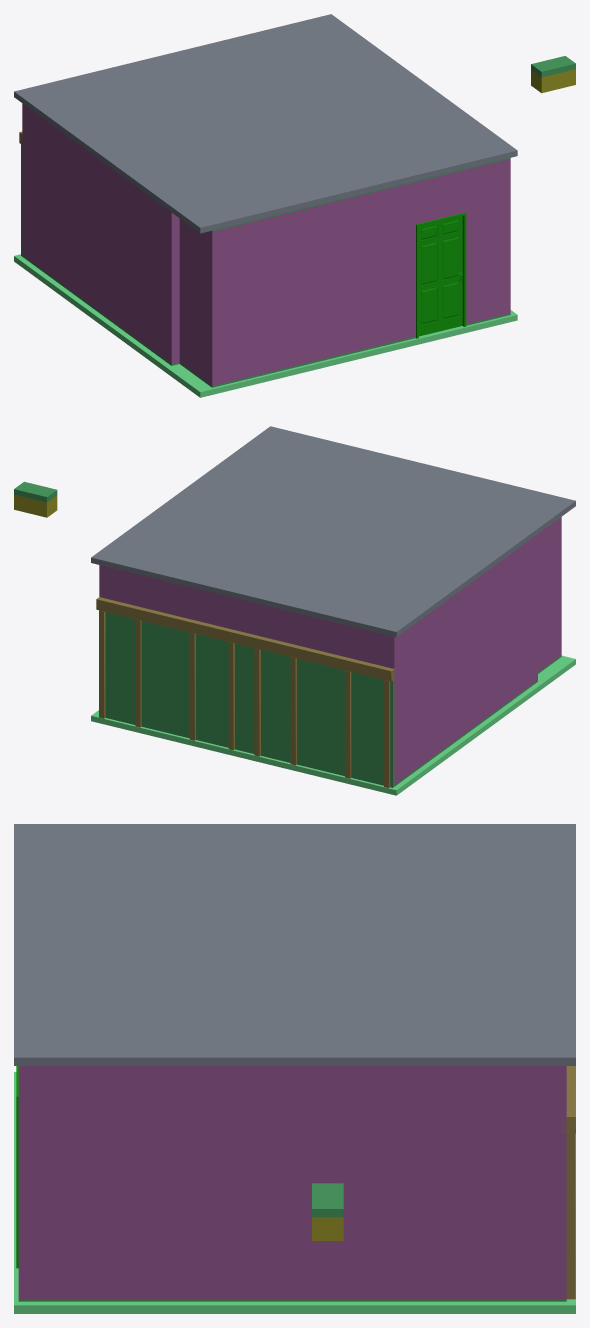
File: FloorPlan10_physics.fbx
3 renders of one model, top to bottom at view 1: azimuth 30°, elevation 25°; view 2: azimuth 150°, elevation 25°; view 3: azimuth 270°, elevation 25°, orthographic. The views are drawn at different scales.
Parts seen in each view (by area): view 1: StandardWallSize, Ceiling, Floor, StandardDoor1, StandardUpperCabinetWindow, StandardDoorFrame1; view 2: Ceiling, StandardWallSize, WindowGlass, WindowStructure, Floor, StandardUpperCabinetWindow; view 3: Ceiling, StandardWallSize, Floor, WindowStructure, StandardUpperCabinetWindow.
Part boxes in pixels (x1,y1,x2,y2): StandardWallSize: [22, 103, 510, 387]; Ceiling: [14, 14, 517, 233]; Floor: [14, 254, 517, 397]; StandardDoor1: [419, 216, 462, 336]; StandardUpperCabinetWindow: [531, 56, 575, 93]; StandardDoorFrame1: [416, 212, 466, 338]; Ceiling: [91, 426, 575, 637]; StandardWallSize: [99, 517, 561, 786]; WindowGlass: [105, 612, 394, 787]; WindowStructure: [96, 597, 394, 787]; Floor: [91, 655, 575, 795]; StandardUpperCabinetWindow: [14, 481, 57, 517]; Ceiling: [14, 824, 575, 1065]; StandardWallSize: [18, 1066, 566, 1301]; Floor: [14, 1072, 575, 1313]; WindowStructure: [561, 1066, 575, 1299]; StandardUpperCabinetWindow: [312, 1183, 343, 1240].
Size of the model in its own units: 882 by 302 by 600.
